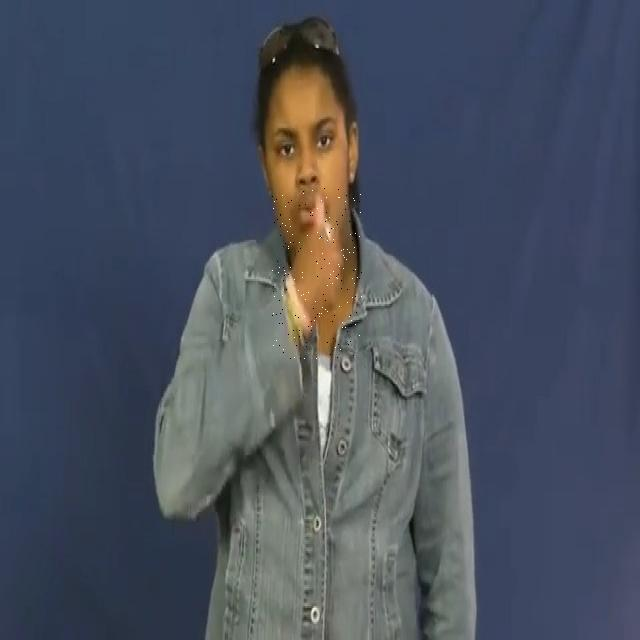tissues: (272, 188, 362, 361)
